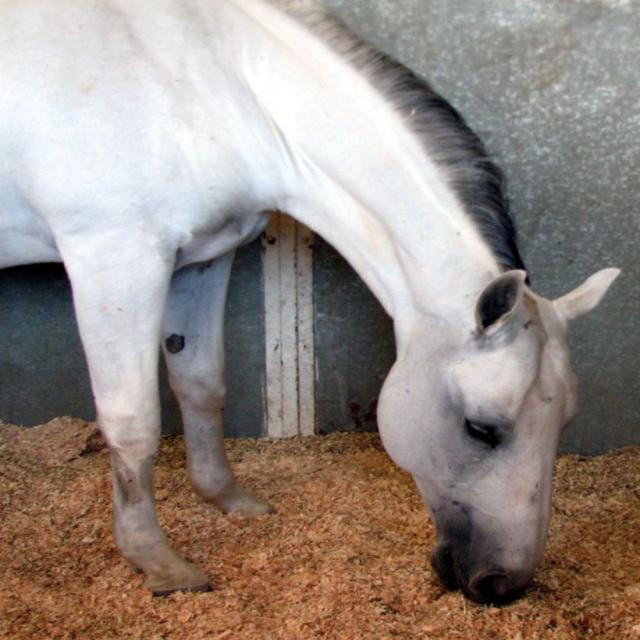Horse: (0, 0, 624, 610)
